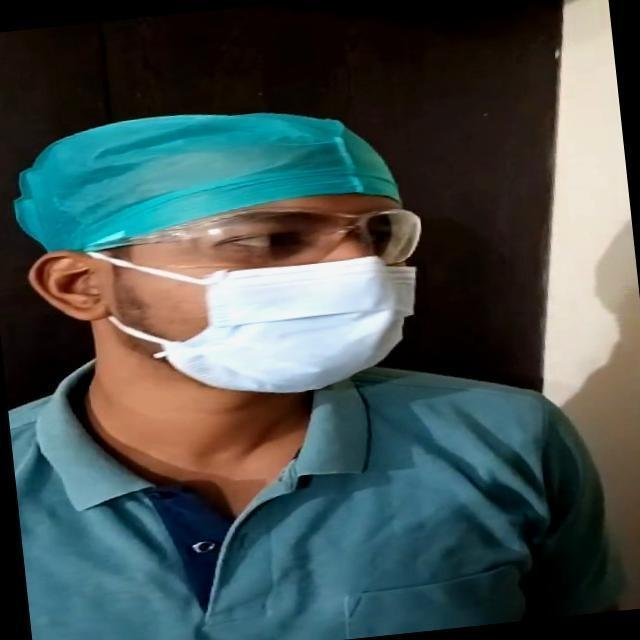gloves: (30, 95, 441, 274)
mask: (163, 277, 407, 383)
